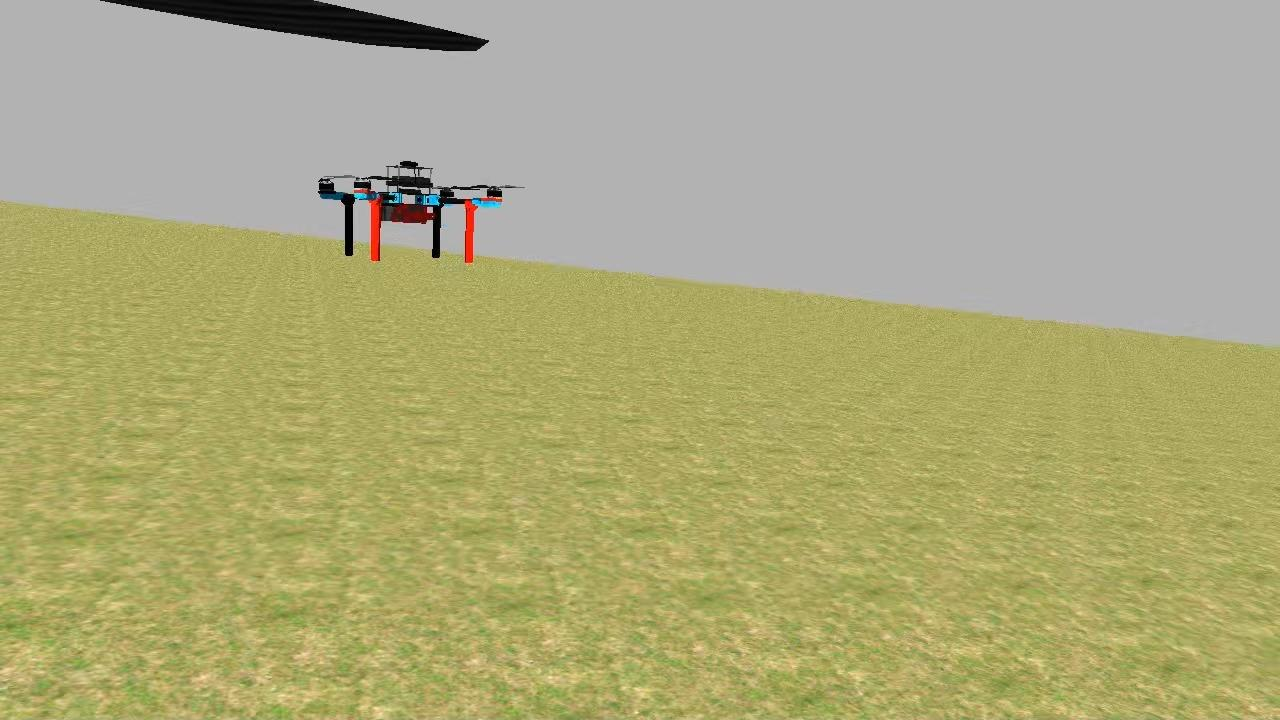UAV: (312, 154, 510, 270)
